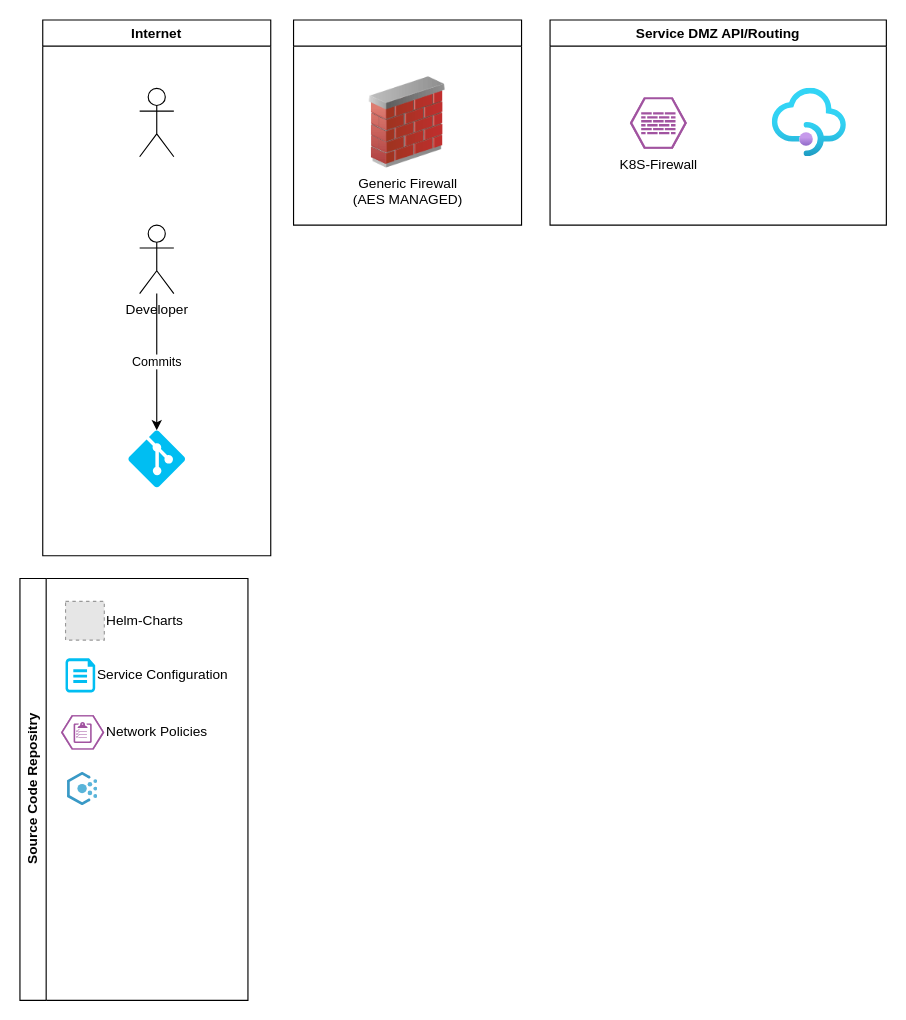
The diagram is 906 pixels wide and 1020 high, and some of its shapes have lost their labels. Grey dashed boxes stand in for pictures. The shapes that lost their labels are listed below. From the top down, each one's box as (x1, y1, x2, y2) in pixels, then its label:
(139, 87, 174, 157): External Swim Consumer
(292, 19, 522, 225): Edge/Border
(772, 88, 846, 156): API-Gateway
(128, 430, 185, 487): Github-Repositories
(67, 772, 97, 805): API Policies
